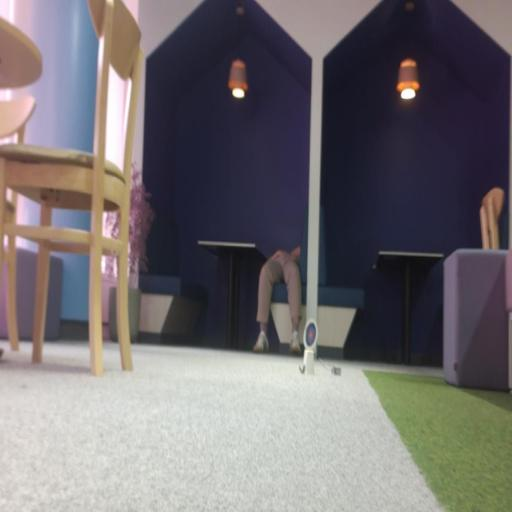target: (304, 319, 318, 349)
